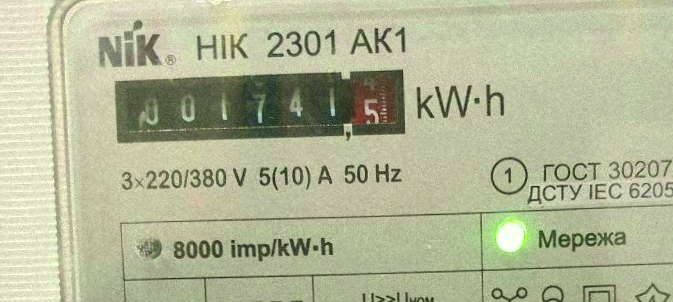0: (177, 90, 197, 124), (141, 94, 161, 127)
1: (213, 87, 231, 124), (323, 84, 339, 119)
4: (285, 84, 306, 119), (361, 74, 377, 93)
5: (360, 94, 380, 126)
7: (249, 90, 267, 125)
screen: (108, 63, 412, 150)
